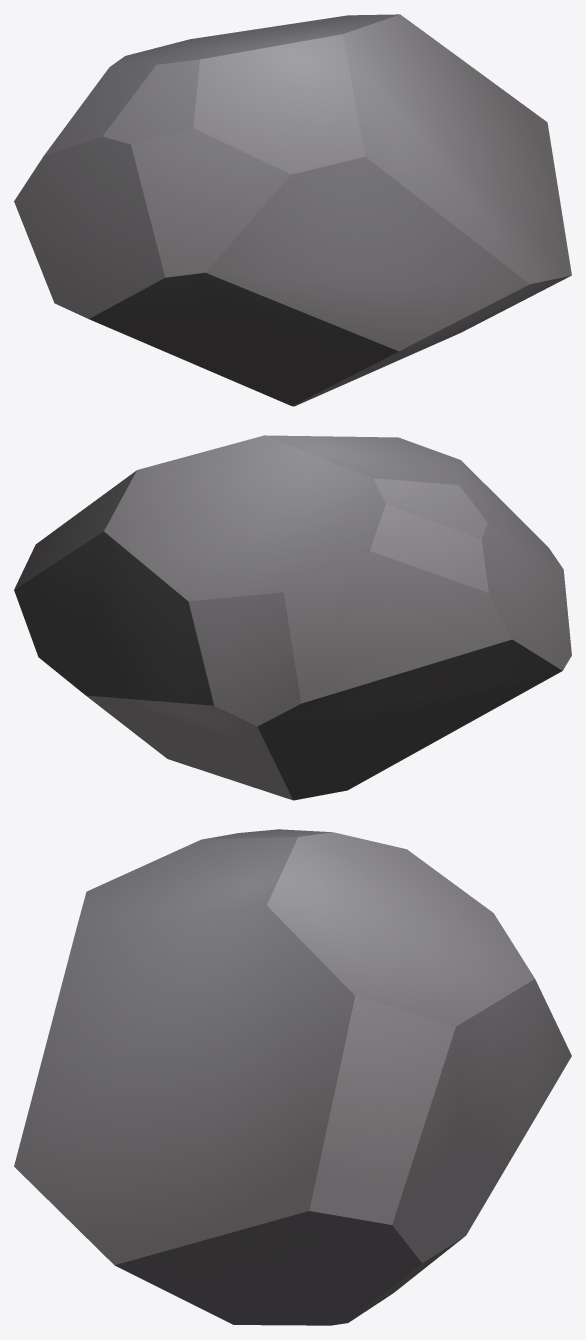
File: LargeSize_Rock.fbx
The picture shows the model from 3 angles, top to bottom: view 1: azimuth 30°, elevation 25°; view 2: azimuth 150°, elevation 25°; view 3: azimuth 270°, elevation 25°; orthographic projection. The views are drawn at different scales.
Visible parts, largest first — view 1: LargeSize_Rock; view 2: LargeSize_Rock; view 3: LargeSize_Rock.
Boxes of the visible parts, x1,y1,x2,y2 form: LargeSize_Rock: (14,14,571,406); LargeSize_Rock: (14,435,571,800); LargeSize_Rock: (14,829,571,1325).
Size of the model in its own units: 4.98 by 2.84 by 3.97.
Materials: 1 (1 with a texture image).
